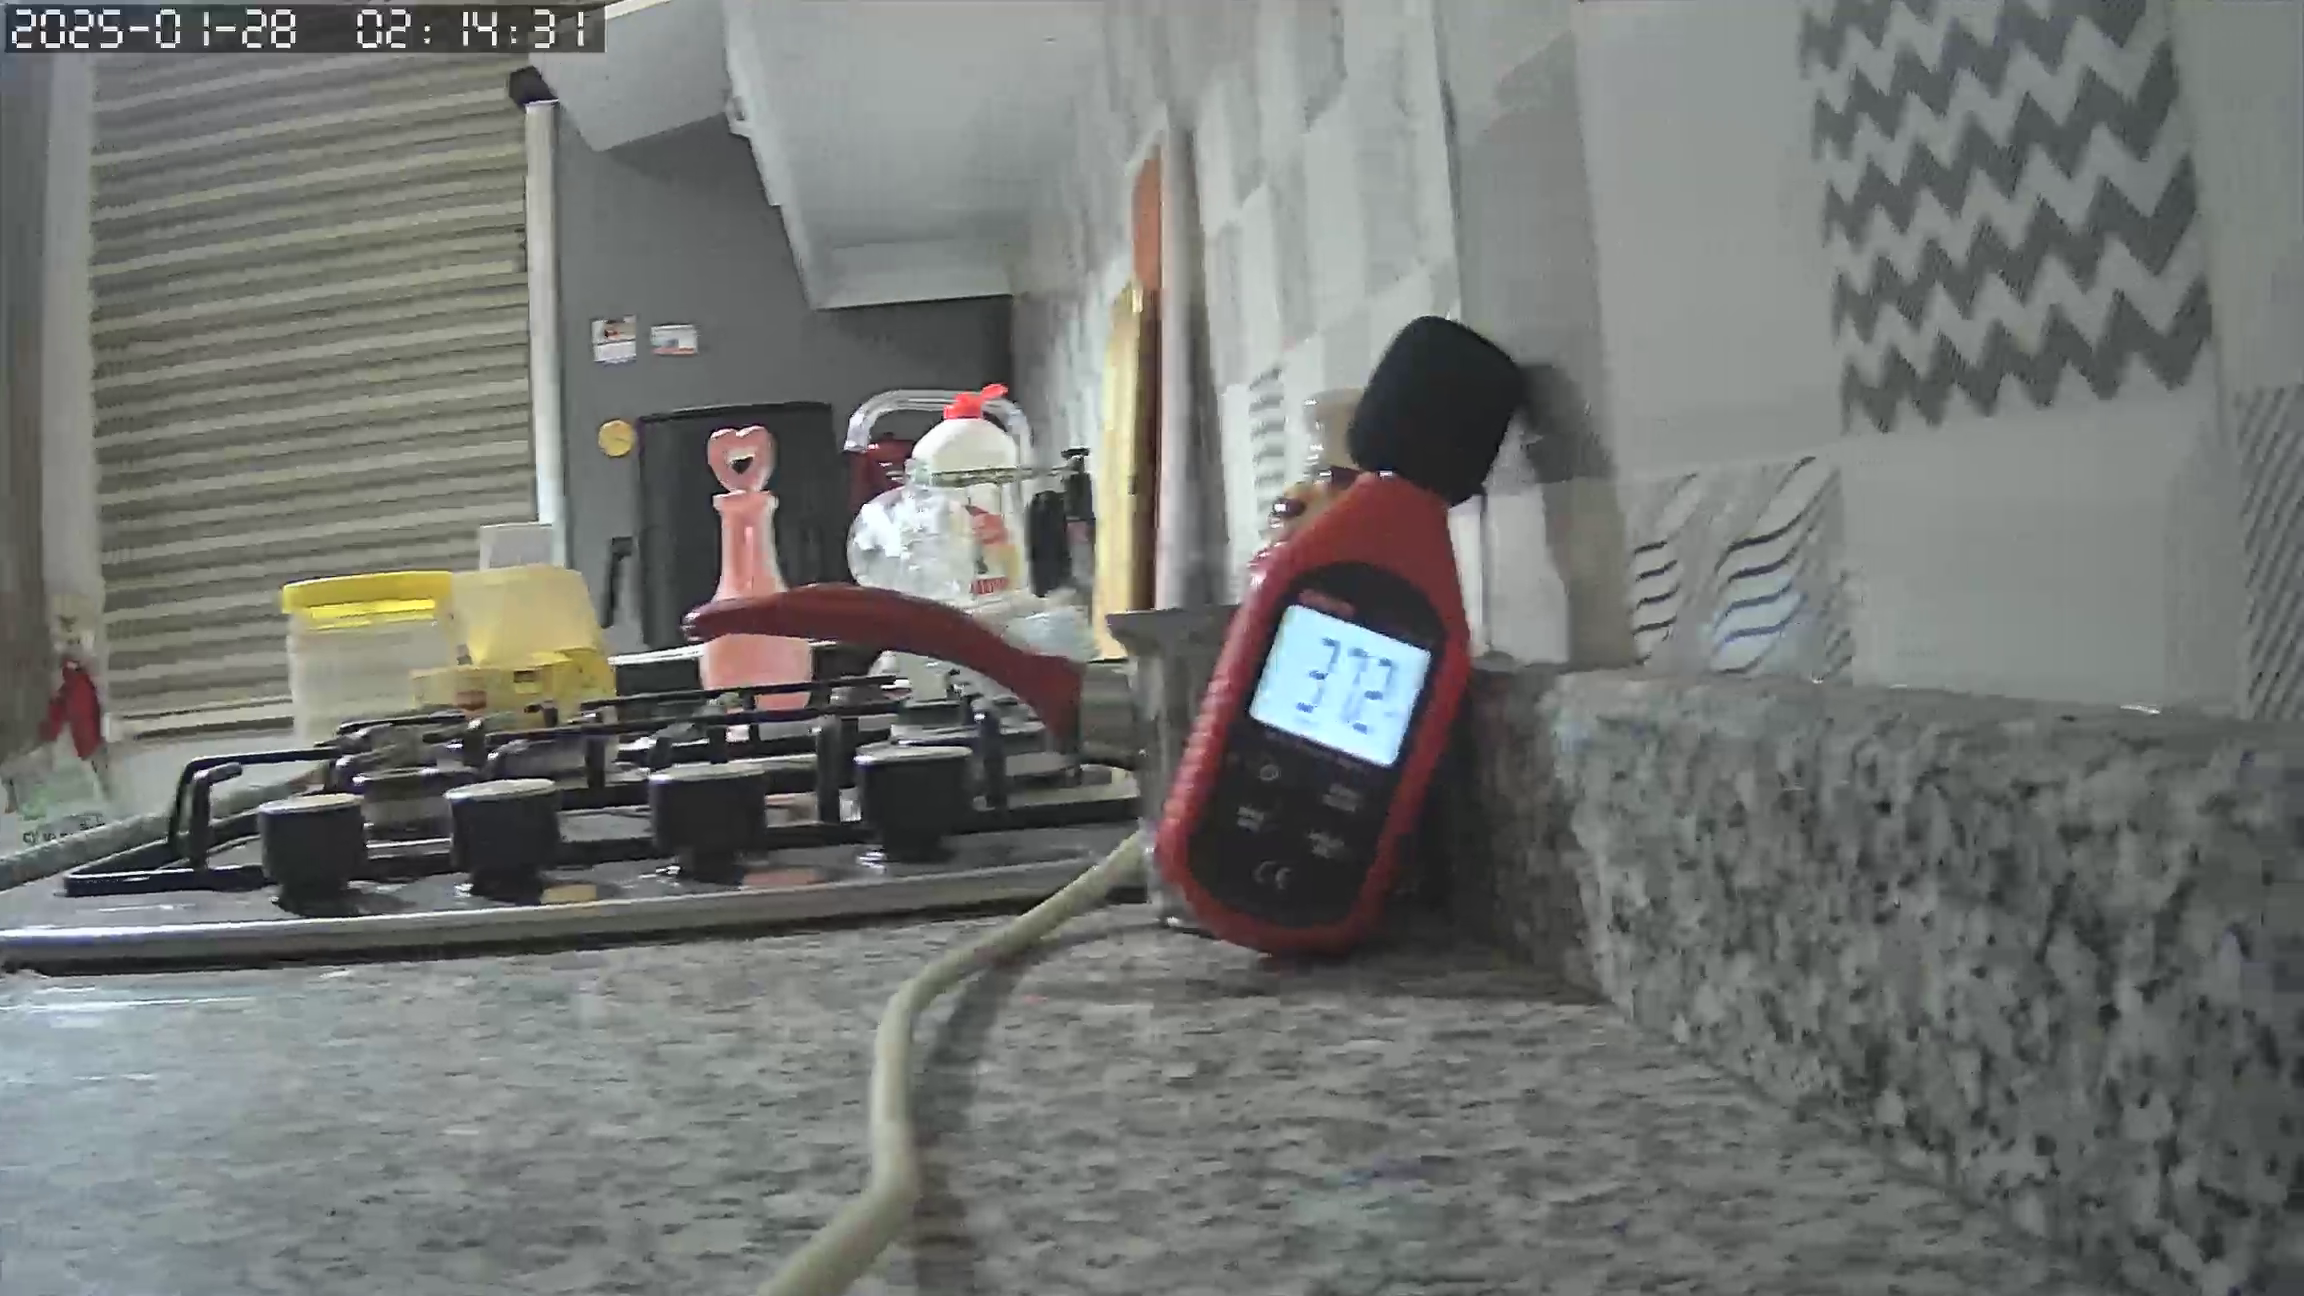screen: (1253, 601, 1431, 769)
